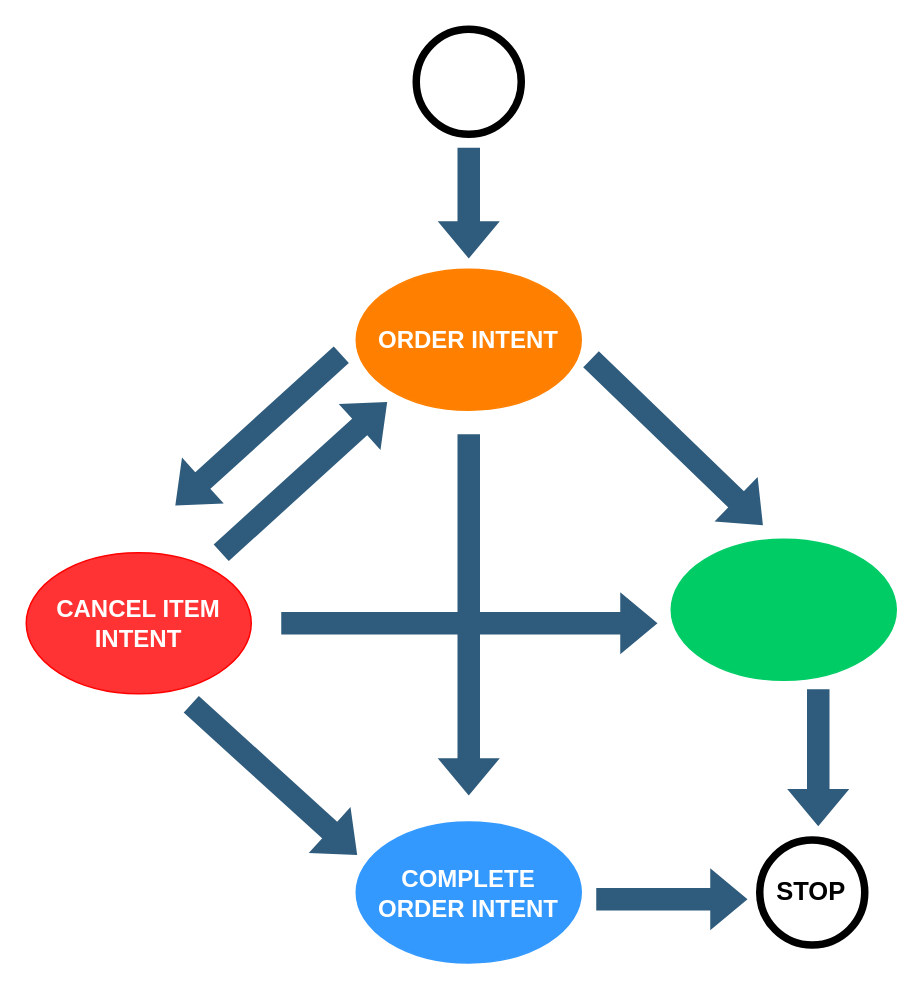
Some shapes in this 923 by 990 pixel diagram are drawn without their labels. Here are the shapes that lost their labels. From the top down, the centre of each, then its label:
the point at 468,81: START
the point at 783,609: CANCEL ORDER INTENT
